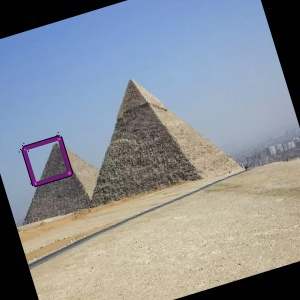square: (19, 134, 74, 186)
